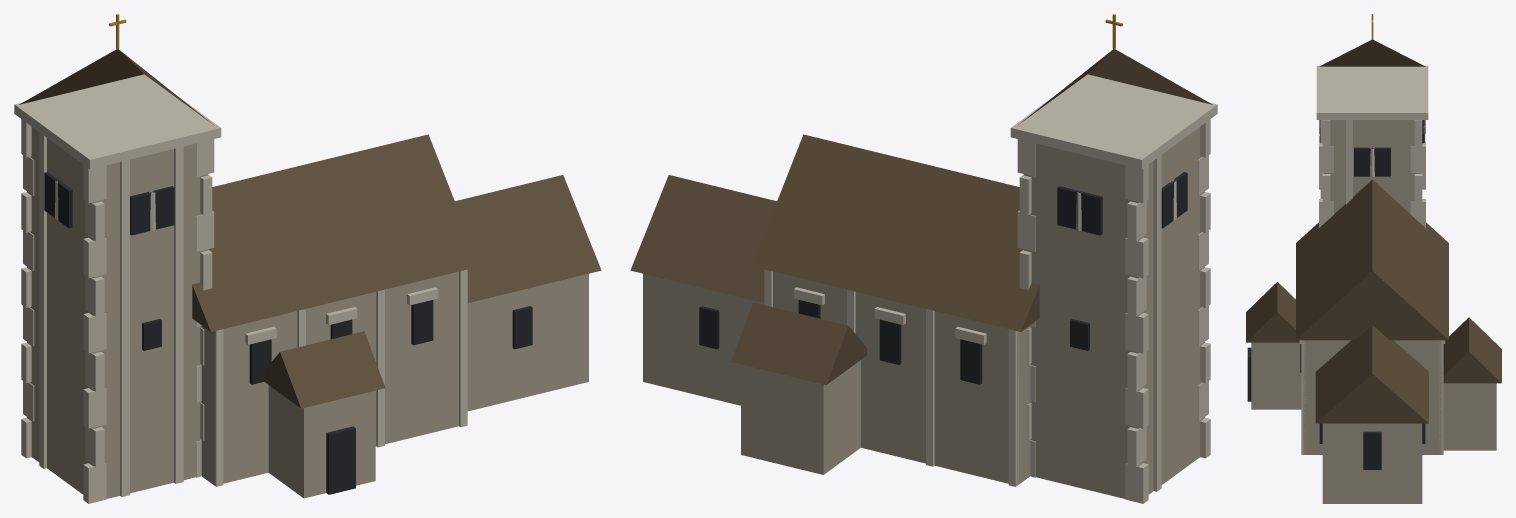
File: saxon_church.glb
3 views of the same model, side by side, from view 1: azimuth 30°, elevation 25°; view 2: azimuth 150°, elevation 25°; view 3: azimuth 270°, elevation 25° (orthographic). The views are drawn at different scales.
Visible parts, largest first — view 1: saxon_church; view 2: saxon_church; view 3: saxon_church.
Boxes of the visible parts, left/top/right/bottom form: saxon_church: left=14, top=14, right=601, bottom=503; saxon_church: left=630, top=14, right=1217, bottom=503; saxon_church: left=1246, top=14, right=1501, bottom=503.
Size of the model in its own units: 28.45 by 23.9 by 16.7.
